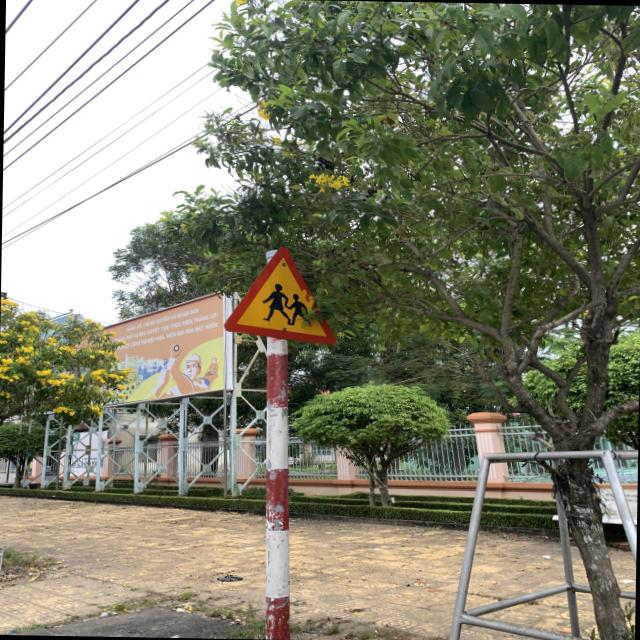Vong_Xuyen: (224, 248, 338, 346)
